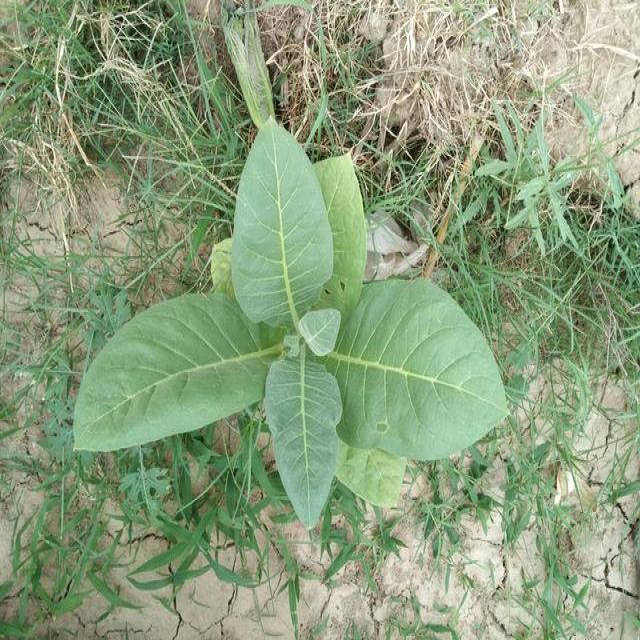crop: (70, 112, 514, 530)
